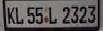numberplate: (2, 1, 100, 29)
